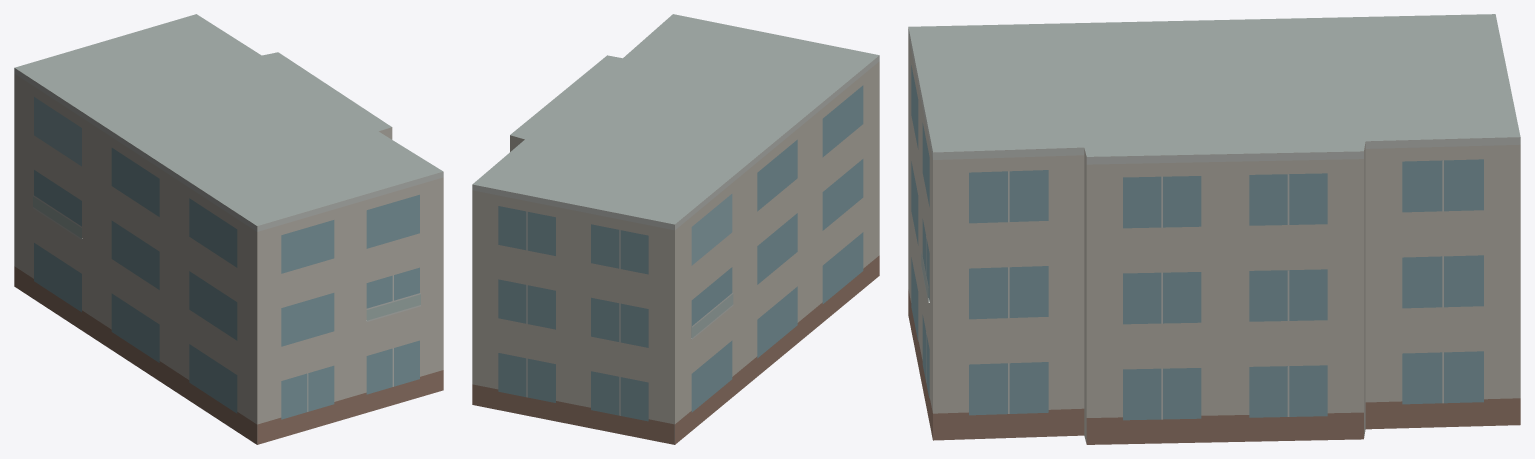
Rendered from survey-upis-32765220.glb.
3 views of the same model, side by side, from view 1: azimuth 30°, elevation 25°; view 2: azimuth 150°, elevation 25°; view 3: azimuth 270°, elevation 25° (orthographic). The views are drawn at different scales.
Parts seen in each view (by area): view 1: survey-upis-32765220.tmp; view 2: survey-upis-32765220.tmp; view 3: survey-upis-32765220.tmp.
Boxes of the visible parts, x1=… form: survey-upis-32765220.tmp: x1=14, y1=14, x2=443, y2=444; survey-upis-32765220.tmp: x1=472, y1=14, x2=879, y2=444; survey-upis-32765220.tmp: x1=908, y1=14, x2=1520, y2=444.
Bounding box in the file's own units: 9.75 × 9.15 × 17.64.
